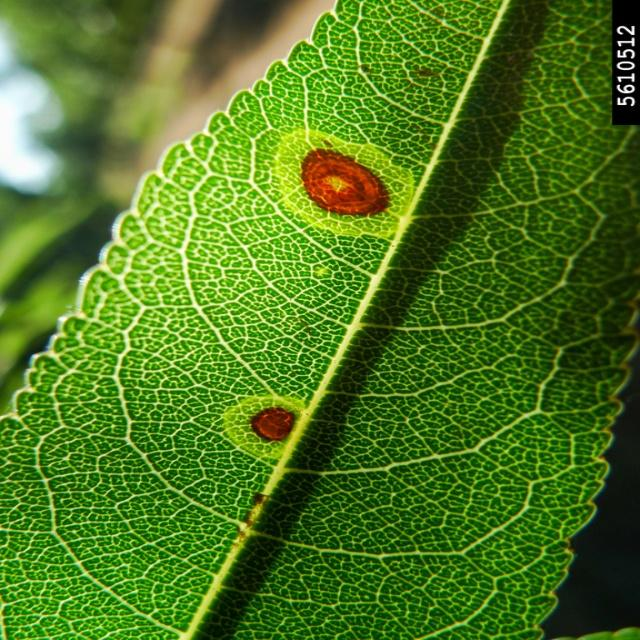leaf_spot: (0, 7, 606, 637)
